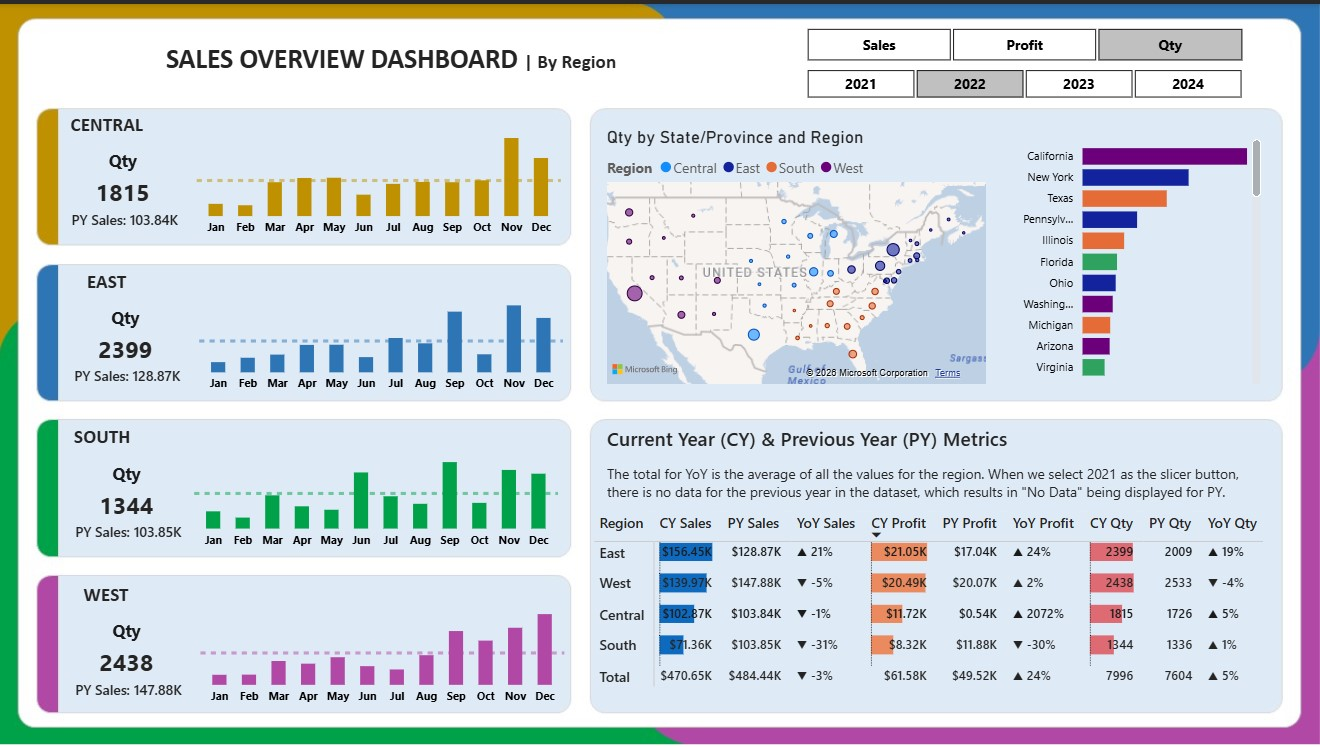

What the dashboard file says about the page in this screenshot:
{"tool":"powerbi","page":{"name":"Page 1","canvas":[1280,720],"ordinal":0},"visuals":[{"type":"slicer","fields":{"Values":["Select Metric.Select Metric"]},"box":[757.8,16.9,470.9,44.8],"z":0},{"type":"card","fields":{"Values":["Sales Data.Total Qty"]},"box":[60.5,162.2,121,43.6],"z":1000},{"type":"textbox","box":[60.5,100.5,89.6,36.3],"z":2000},{"type":"slicer","fields":{"Values":["Calendar Table.Year"]},"box":[757.7,56.3,470.4,38],"z":3000},{"type":"card","fields":{"Values":["Sales Data.Dynamic Title"]},"box":[77.5,136.8,87.2,35.1],"z":4000},{"type":"card","fields":{"Values":["Sales Data.PY KPI Sales"]},"box":[64.2,196.1,117.4,25.4],"z":5000},{"type":"clusteredColumnChart","fields":{"Y":["Sales Data.Total Qty"],"Category":["Calendar Table.Month"]},"box":[188,100.2,362.3,133.1],"z":6000},{"type":"textbox","box":[67.8,31.5,625.8,49.6],"z":7000},{"type":"card","fields":{"Values":["Sales Data.Total Qty"]},"box":[62.8,313.8,121,43.6],"z":8000},{"type":"textbox","box":[60.4,252.5,89.2,35.7],"z":9000},{"type":"card","fields":{"Values":["Sales Data.Dynamic Title"]},"box":[79.8,288.4,87.2,35.1],"z":10000},{"type":"card","fields":{"Values":["Sales Data.PY KPI Sales"]},"box":[66.5,347.7,117.4,25.4],"z":11000},{"type":"clusteredColumnChart","fields":{"Y":["Sales Data.Total Qty"],"Category":["Calendar Table.Month"]},"box":[190.3,251.8,362.3,133.1],"z":12000},{"type":"card","fields":{"Values":["Sales Data.Total Qty"]},"box":[64.1,465.4,121,43.6],"z":13000},{"type":"textbox","box":[60.4,403.4,85.1,37],"z":14000},{"type":"card","fields":{"Values":["Sales Data.Dynamic Title"]},"box":[81,440,87.2,35.1],"z":15000},{"type":"card","fields":{"Values":["Sales Data.PY KPI Sales"]},"box":[67.7,499.3,117.4,25.4],"z":16000},{"type":"clusteredColumnChart","fields":{"Y":["Sales Data.Total Qty"],"Category":["Calendar Table.Month"]},"box":[185.2,403.4,362.3,133.1],"z":17000},{"type":"card","fields":{"Values":["Sales Data.Total Qty"]},"box":[64.1,616.9,121,43.6],"z":18000},{"type":"textbox","box":[64.5,555.7,81,35.7],"z":19000},{"type":"card","fields":{"Values":["Sales Data.Dynamic Title"]},"box":[81,591.5,87.2,35.1],"z":20000},{"type":"card","fields":{"Values":["Sales Data.PY KPI Sales"]},"box":[67.7,650.8,117.4,25.4],"z":21000},{"type":"clusteredColumnChart","fields":{"Y":["Sales Data.Total Qty"],"Category":["Calendar Table.Month"]},"box":[191.5,554.9,362.3,133.1],"z":22000},{"type":"map","fields":{"Size":["Sales Data.Total Qty"],"Category":["Sales Data.State/Province"],"Series":["Sales Data.Region"]},"box":[584.5,118.3,377.5,254.9],"z":23000},{"type":"barChart","fields":{"Y":["Sales Data.Total Qty"],"Category":["Sales Data.State/Province"],"Series":["Sales Data.Region"]},"box":[974.6,118.3,253.5,254.9],"z":24000},{"type":"pivotTable","fields":{"Rows":["Sales Data.Region"],"Values":["Sales Data.CY Sales","Sales Data.PY Sales","Sales Data.YoY Sales","Sales Data.CY Profit","Sales Data.PY Profit","Sales Data.YoY Profit","Sales Data.CY Qty","Sales Data.PY Qty","Sales Data.YoY Qty"]},"box":[572.6,486.6,668.2,188.8],"z":25000},{"type":"textbox","box":[584.5,402.8,408.5,36.6],"z":26000},{"type":"textbox","box":[584.7,440.6,627,46],"z":27000}]}

Visuals, with their boxes in screenshot pixels (x1, y1, x2, y2), scaled from the page's 1280x720 canvas onto the 1320x747 screenshot:
slicer - Select Metric.Select Metric: crop(781, 18, 1267, 64)
card - Sales Data.Total Qty: crop(62, 168, 187, 214)
textbox: crop(62, 104, 155, 142)
slicer - Calendar Table.Year: crop(781, 58, 1266, 98)
card - Sales Data.Dynamic Title: crop(80, 142, 170, 178)
card - Sales Data.PY KPI Sales: crop(66, 203, 187, 230)
clusteredColumnChart - Sales Data.Total Qty x Calendar Table.Month: crop(194, 104, 567, 242)
textbox: crop(70, 33, 715, 84)
card - Sales Data.Total Qty: crop(65, 326, 190, 371)
textbox: crop(62, 262, 154, 299)
card - Sales Data.Dynamic Title: crop(82, 299, 172, 336)
card - Sales Data.PY KPI Sales: crop(69, 361, 190, 387)
clusteredColumnChart - Sales Data.Total Qty x Calendar Table.Month: crop(196, 261, 570, 399)
card - Sales Data.Total Qty: crop(66, 483, 191, 528)
textbox: crop(62, 419, 150, 457)
card - Sales Data.Dynamic Title: crop(84, 457, 173, 493)
card - Sales Data.PY KPI Sales: crop(70, 518, 191, 544)
clusteredColumnChart - Sales Data.Total Qty x Calendar Table.Month: crop(191, 419, 565, 557)
card - Sales Data.Total Qty: crop(66, 640, 191, 685)
textbox: crop(67, 577, 150, 614)
card - Sales Data.Dynamic Title: crop(84, 614, 173, 650)
card - Sales Data.PY KPI Sales: crop(70, 675, 191, 702)
clusteredColumnChart - Sales Data.Total Qty x Calendar Table.Month: crop(197, 576, 571, 714)
map - Sales Data.Total Qty x Sales Data.State/Province: crop(603, 123, 992, 387)
barChart - Sales Data.Total Qty x Sales Data.State/Province: crop(1005, 123, 1266, 387)
pivotTable - Sales Data.Region x Sales Data.CY Sales: crop(590, 505, 1280, 701)
textbox: crop(603, 418, 1024, 456)
textbox: crop(603, 457, 1250, 505)
